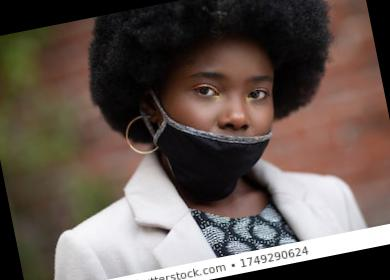mask_weared_incorrect: (173, 61, 287, 169)
